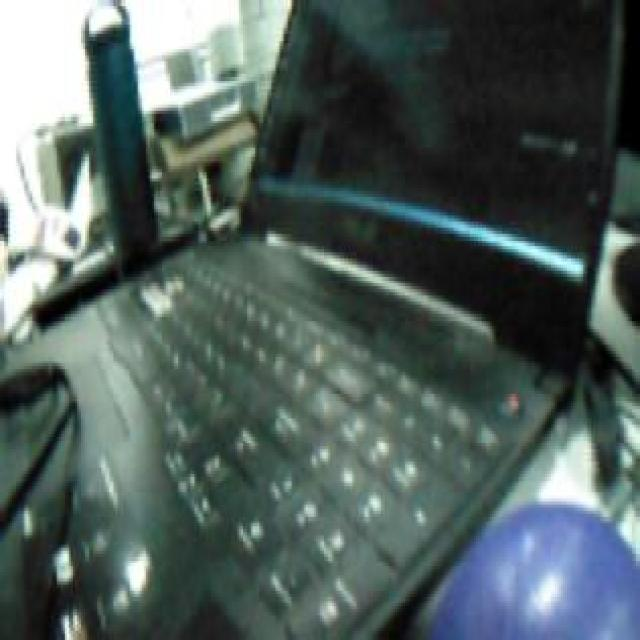BallPurple: (429, 498, 640, 640)
